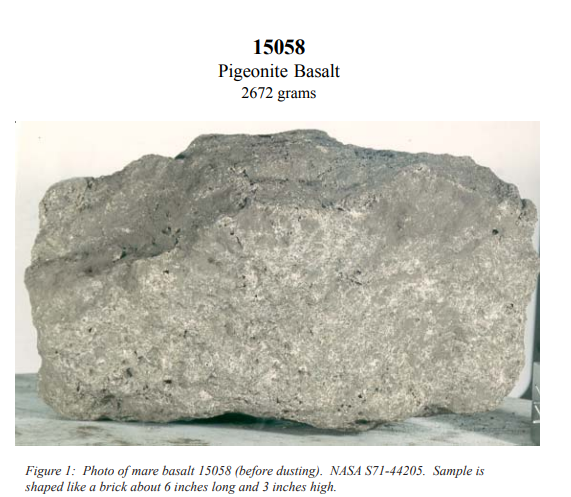Basalt: (31, 134, 529, 435)
